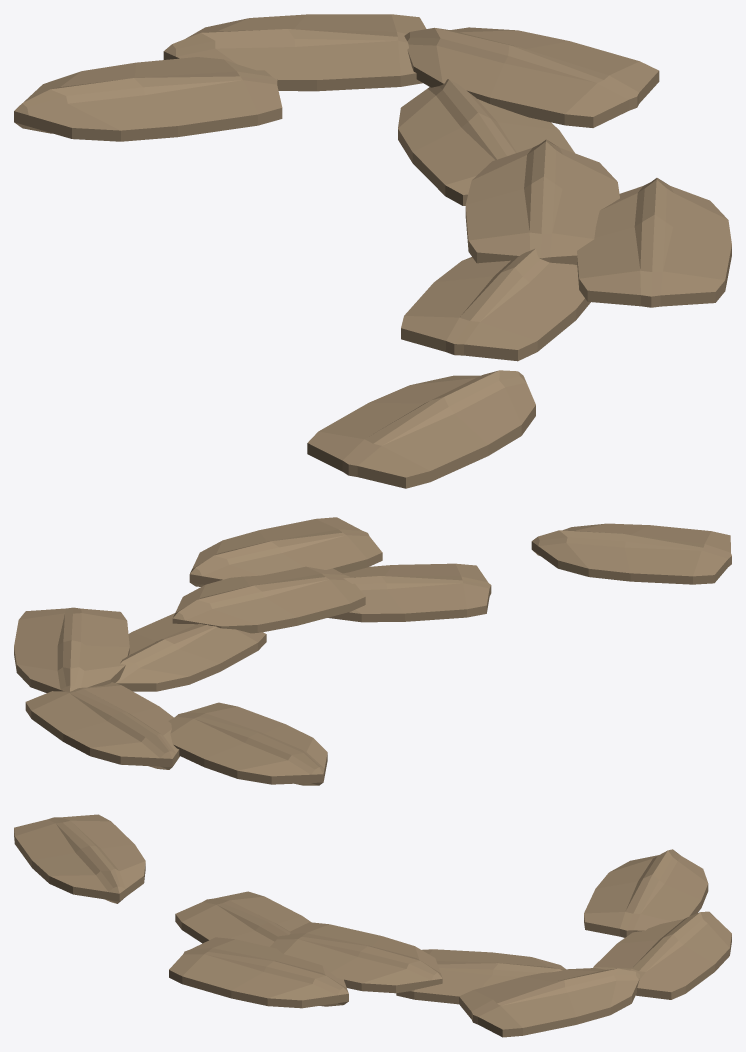
Rendered from Scales Harvested.fbx.
3 renders of one model, top to bottom at view 1: azimuth 30°, elevation 25°; view 2: azimuth 150°, elevation 25°; view 3: azimuth 270°, elevation 25°, orthographic. The views are drawn at different scales.
Parts seen in each view (by area): view 1: scale14; view 2: scale14; view 3: scale14.
Part boxes in pixels (box(x1,y1,x2,y2)): scale14: box(14, 14, 731, 488); scale14: box(14, 517, 731, 785); scale14: box(14, 814, 731, 1037).
Size of the model in its own units: 0.6663 by 0.0648 by 0.922.
